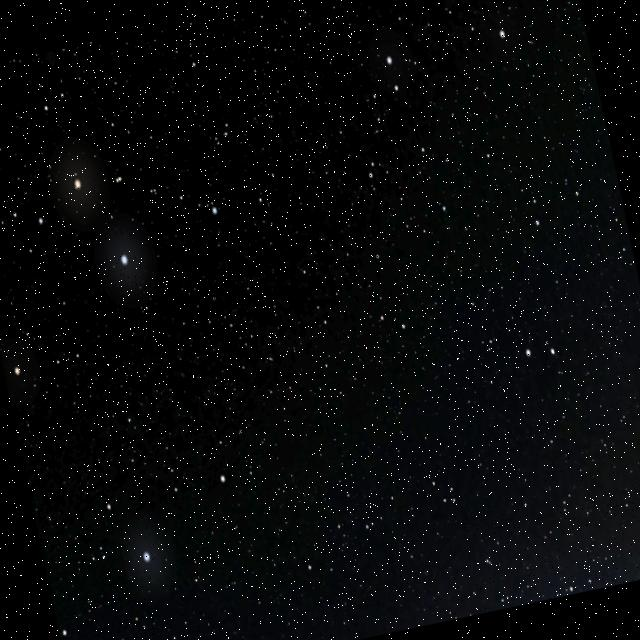Microscpium: (295, 256, 341, 384)
